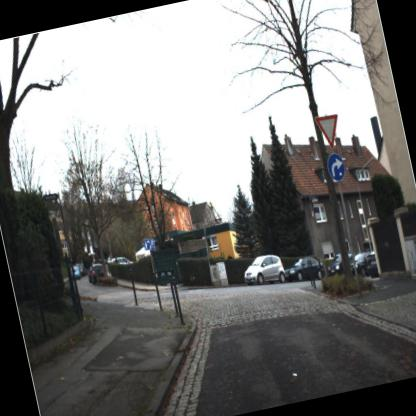mandatory: (323, 148, 352, 188)
other: (310, 106, 346, 151)
